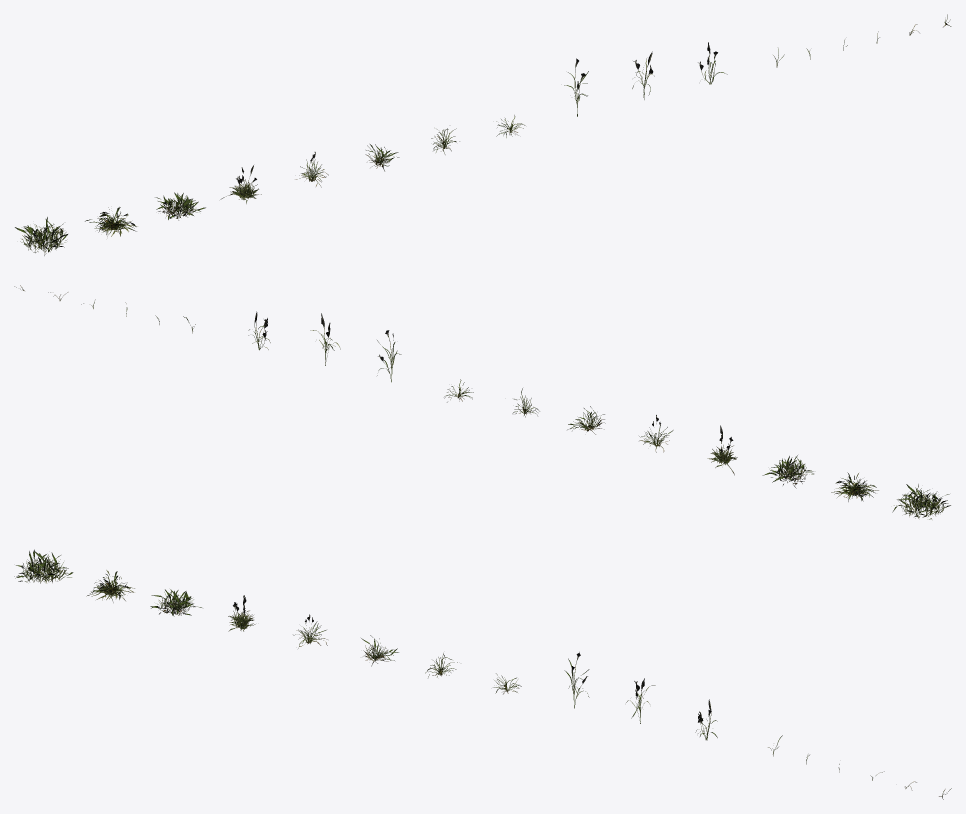
Rendered from grass_medium_01-game.glb.
3 views of the same model, one above another, from view 1: azimuth 30°, elevation 25°; view 2: azimuth 150°, elevation 25°; view 3: azimuth 330°, elevation 25° (orthographic).
Parts seen in each view (by area): view 1: grass_medium_01_large_a_LOD0, grass_medium_01_large_c_LOD0, grass_medium_01_large_b_LOD0; view 2: grass_medium_01_large_a_LOD0, grass_medium_01_large_c_LOD0, grass_medium_01_large_b_LOD0; view 3: grass_medium_01_large_a_LOD0, grass_medium_01_large_c_LOD0, grass_medium_01_large_b_LOD0.
Part boxes in pixels (bbox=[...]): grass_medium_01_large_a_LOD0: bbox=[15, 217, 67, 255]; grass_medium_01_large_c_LOD0: bbox=[155, 192, 205, 220]; grass_medium_01_large_b_LOD0: bbox=[85, 207, 137, 236]; grass_medium_01_large_a_LOD0: bbox=[892, 484, 950, 519]; grass_medium_01_large_c_LOD0: bbox=[762, 455, 813, 488]; grass_medium_01_large_b_LOD0: bbox=[831, 472, 878, 501]; grass_medium_01_large_a_LOD0: bbox=[14, 549, 73, 583]; grass_medium_01_large_c_LOD0: bbox=[150, 589, 201, 616]; grass_medium_01_large_b_LOD0: bbox=[86, 570, 134, 602].
Bounding box in the file's own units: 5.61 × 0.3392 × 0.3266.
1 material, 1 textured.
